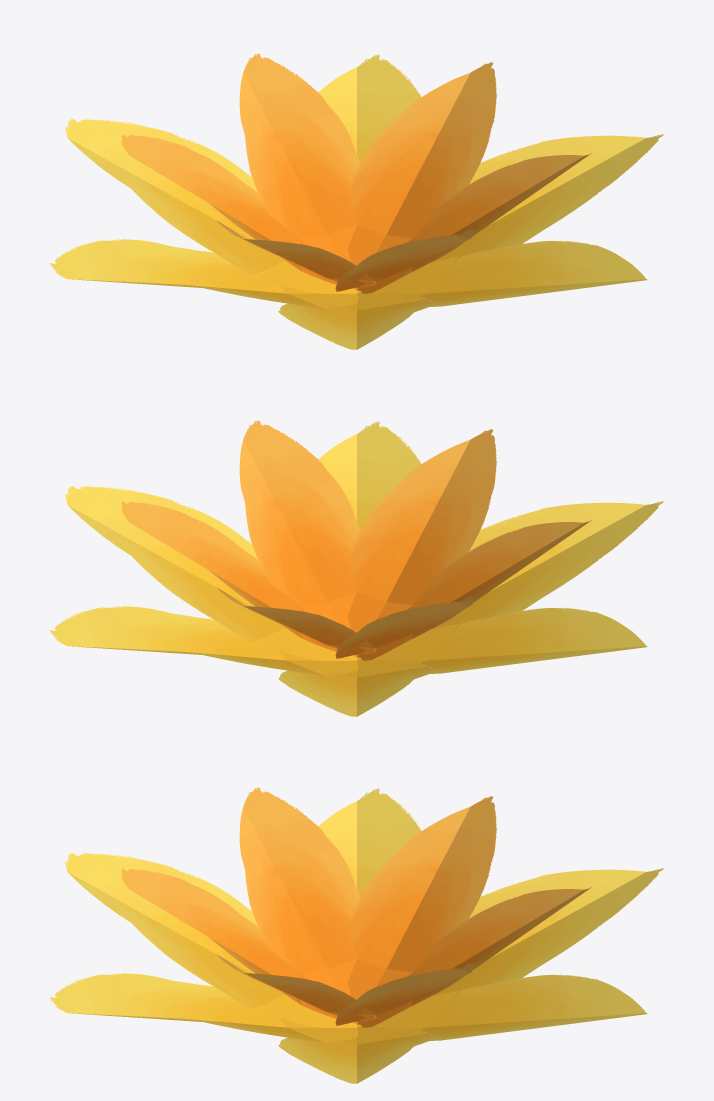
The model's file is flower_lys.fbx.
The picture shows the model from 3 angles, top to bottom: view 1: azimuth 30°, elevation 25°; view 2: azimuth 150°, elevation 25°; view 3: azimuth 270°, elevation 25°; orthographic projection.
Parts seen in each view (by area): view 1: Plane.011; view 2: Plane.011; view 3: Plane.011.
Part boxes in pixels (x1=…): Plane.011: x1=50, y1=53, x2=663, y2=349; Plane.011: x1=50, y1=420, x2=663, y2=716; Plane.011: x1=50, y1=787, x2=663, y2=1083.
Bounding box in the file's own units: 5.97 × 1.66 × 5.79.
